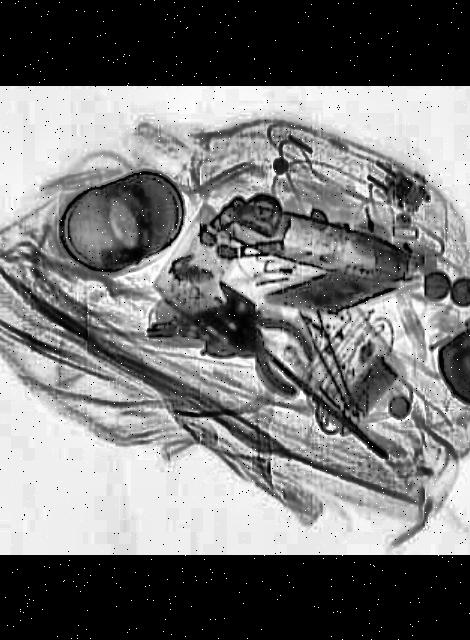Pliers: (193, 268, 336, 402)
